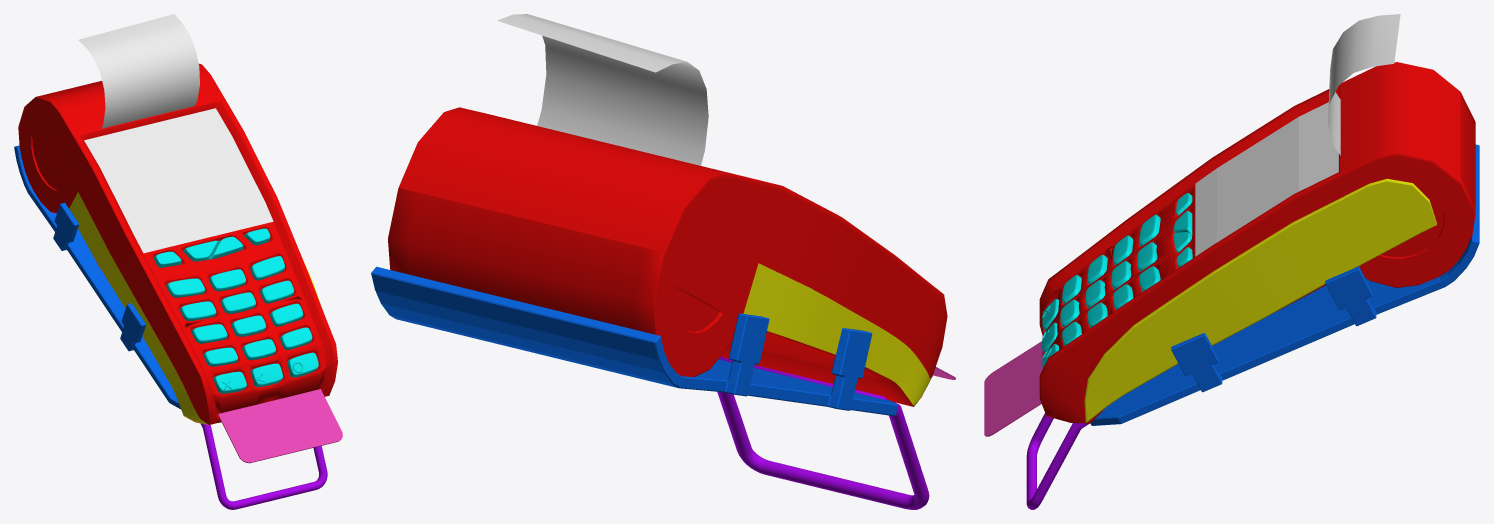
The model's file is bill_machine.fbx.
3 views of the same model, side by side, from view 1: azimuth 30°, elevation 25°; view 2: azimuth 150°, elevation 25°; view 3: azimuth 270°, elevation 25° (orthographic). The views are drawn at different scales.
Parts seen in each view (by area): view 1: Box001, bill_machine, Box002, Plane001, Box003, Box005, Rectangle001; view 2: Box001, bill_machine, Plane001, Box005, Rectangle001; view 3: bill_machine, Box001, Box002, Plane001, Box003, Rectangle001.
Part boxes in pixels (bbox=[...]): Box001: bbox=[18, 63, 337, 424]; bill_machine: bbox=[14, 108, 320, 409]; Box002: bbox=[153, 228, 318, 393]; Plane001: bbox=[78, 14, 199, 128]; Box003: bbox=[218, 389, 342, 463]; Box005: bbox=[69, 192, 208, 424]; Rectangle001: bbox=[200, 423, 327, 509]; Box001: bbox=[388, 107, 947, 406]; bill_machine: bbox=[371, 266, 897, 416]; Plane001: bbox=[497, 14, 708, 165]; Box005: bbox=[743, 263, 931, 406]; Rectangle001: bbox=[717, 356, 929, 509]; bill_machine: bbox=[1084, 102, 1479, 425]; Box001: bbox=[1039, 62, 1475, 423]; Box002: bbox=[1042, 193, 1192, 368]; Plane001: bbox=[1328, 14, 1400, 155]; Box003: bbox=[984, 341, 1042, 436]; Rectangle001: bbox=[1026, 413, 1088, 509].
Bounding box in the file's own units: 9.07 × 18.66 × 18.69.
